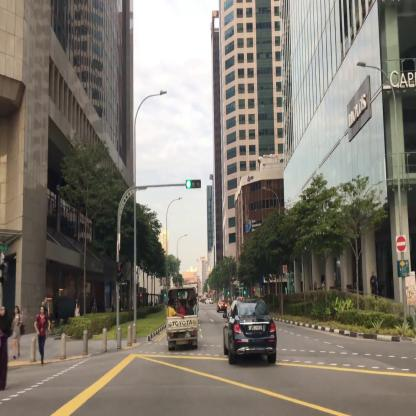green_traffic_light: (186, 179, 200, 188)
